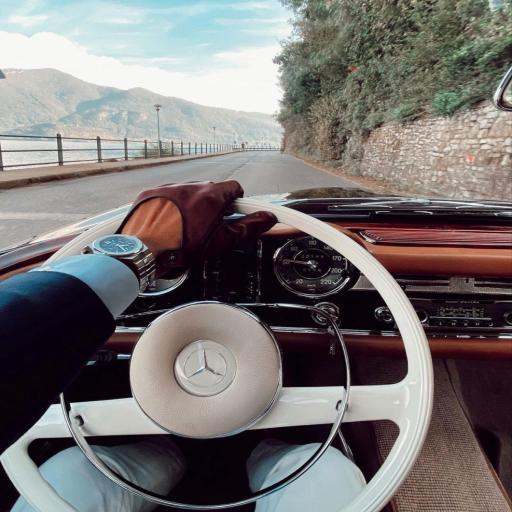Hands-on-the-Wheel: (55, 167, 308, 279)
